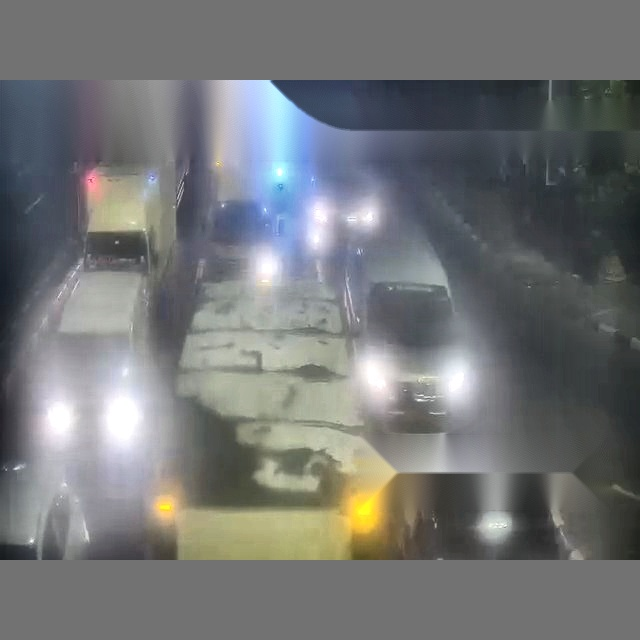Mobil: (352, 238, 474, 418)
